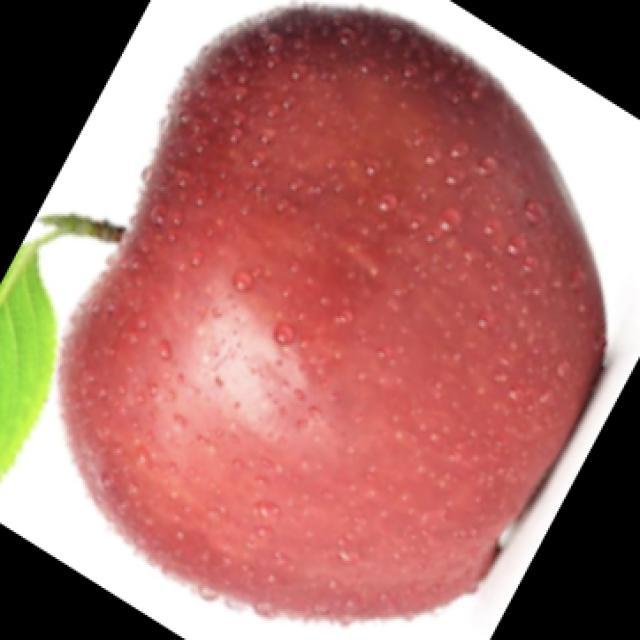Apple: (53, 1, 608, 624)
